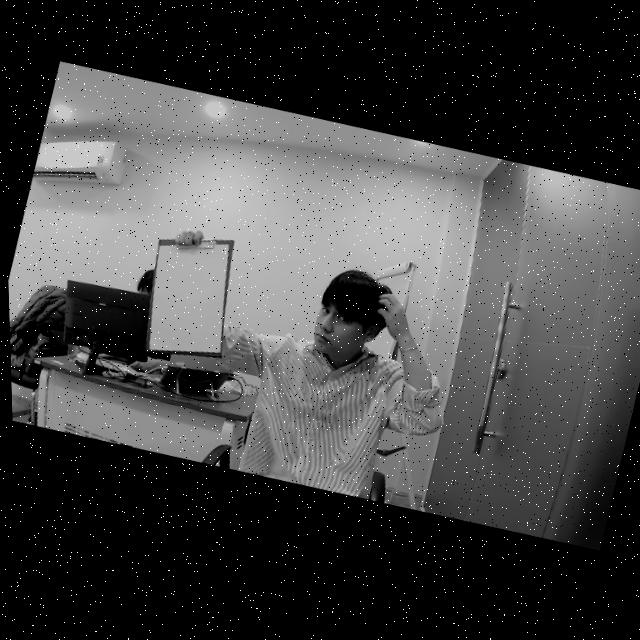face: (305, 286, 380, 363)
